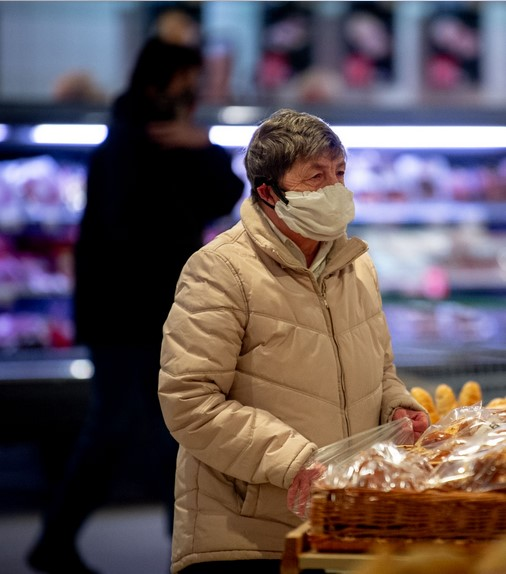face_with_mask: (244, 108, 358, 243)
